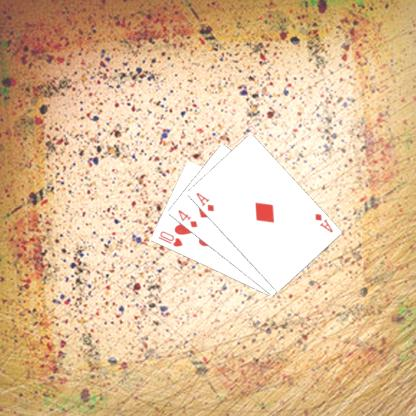10H: (155, 228, 184, 249)
4D: (175, 207, 198, 229)
AD: (193, 189, 215, 213), (312, 210, 334, 234)
